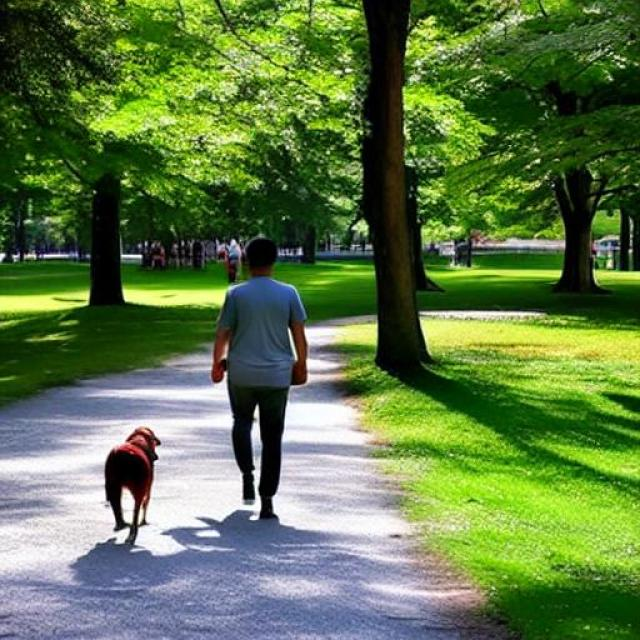Unleashed_Dog: (103, 384, 290, 534)
